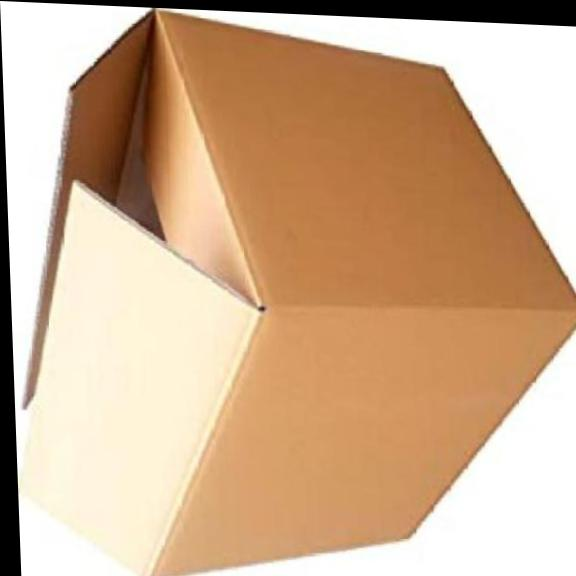Kertas: (20, 12, 576, 576)
